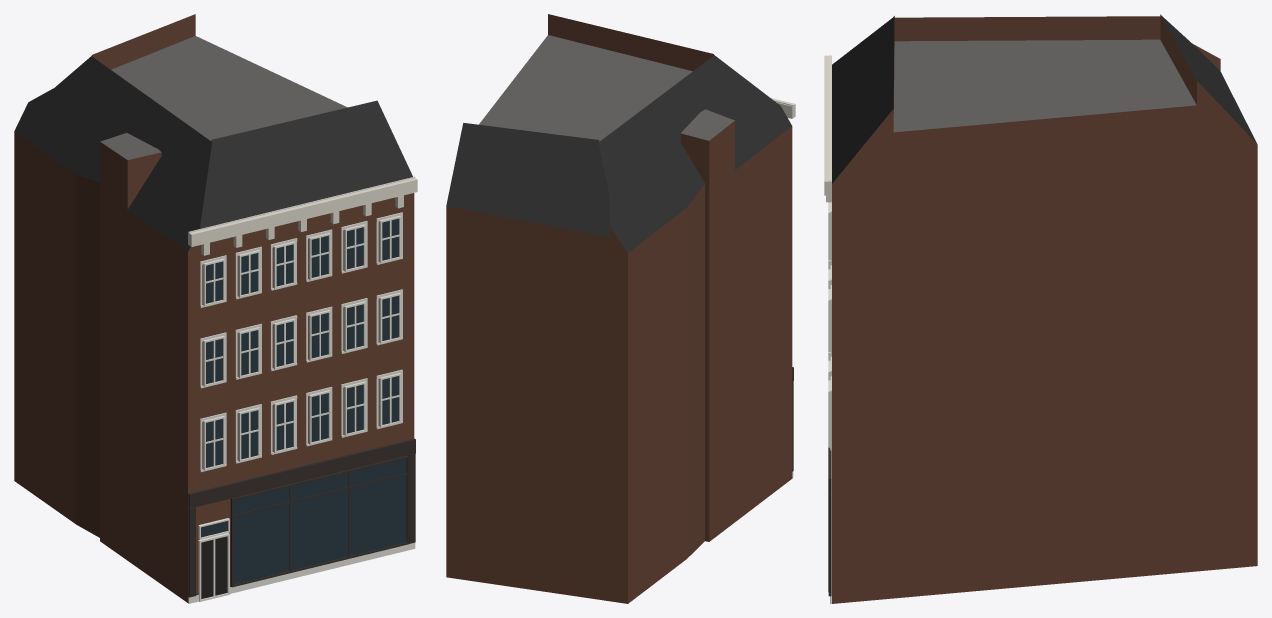
The picture shows the model from 3 angles, left to right: view 1: azimuth 30°, elevation 25°; view 2: azimuth 150°, elevation 25°; view 3: azimuth 270°, elevation 25°; orthographic projection. The views are drawn at different scales.
Parts seen in each view (by area): view 1: spec-0363100012182707; view 2: spec-0363100012182707; view 3: spec-0363100012182707.
Boxes of the visible parts, left/top/right/bottom form: spec-0363100012182707: left=14, top=14, right=417, bottom=603; spec-0363100012182707: left=446, top=14, right=795, bottom=603; spec-0363100012182707: left=824, top=14, right=1257, bottom=603.
Size of the model in its own units: 10.74 by 19.13 by 15.3.
